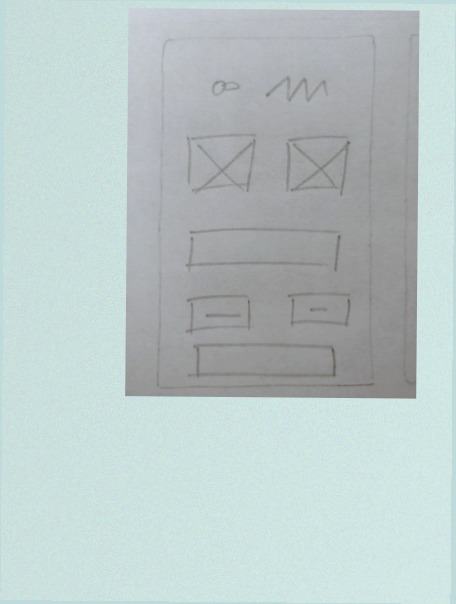button: (282, 285, 355, 333), (182, 290, 257, 335)
image: (179, 130, 265, 196), (281, 130, 353, 201)
switch: (201, 71, 252, 103)
text: (262, 71, 336, 109)
text_input: (179, 223, 347, 275), (185, 339, 343, 382)
